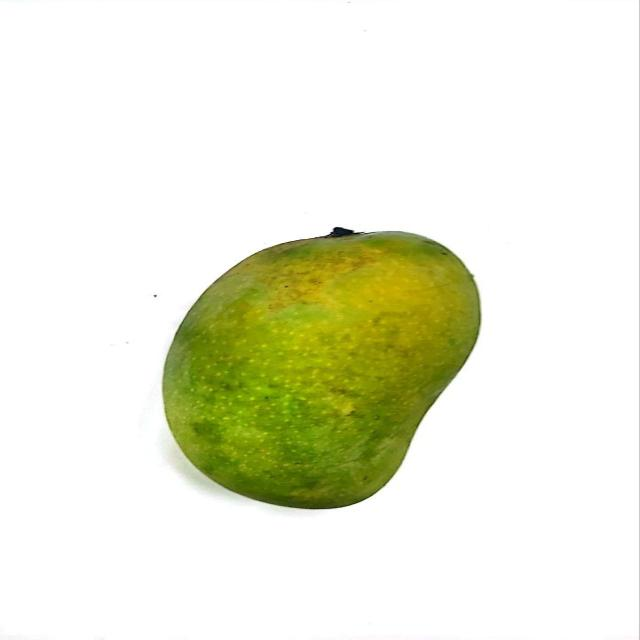fresh_mango: (159, 229, 483, 510)
